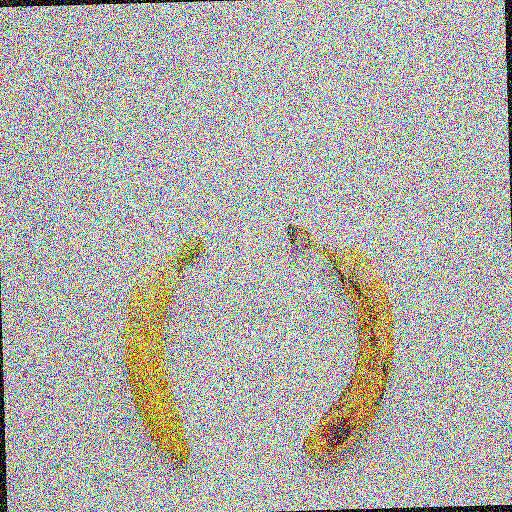fruit: (2, 110, 357, 430), (326, 164, 461, 510)
